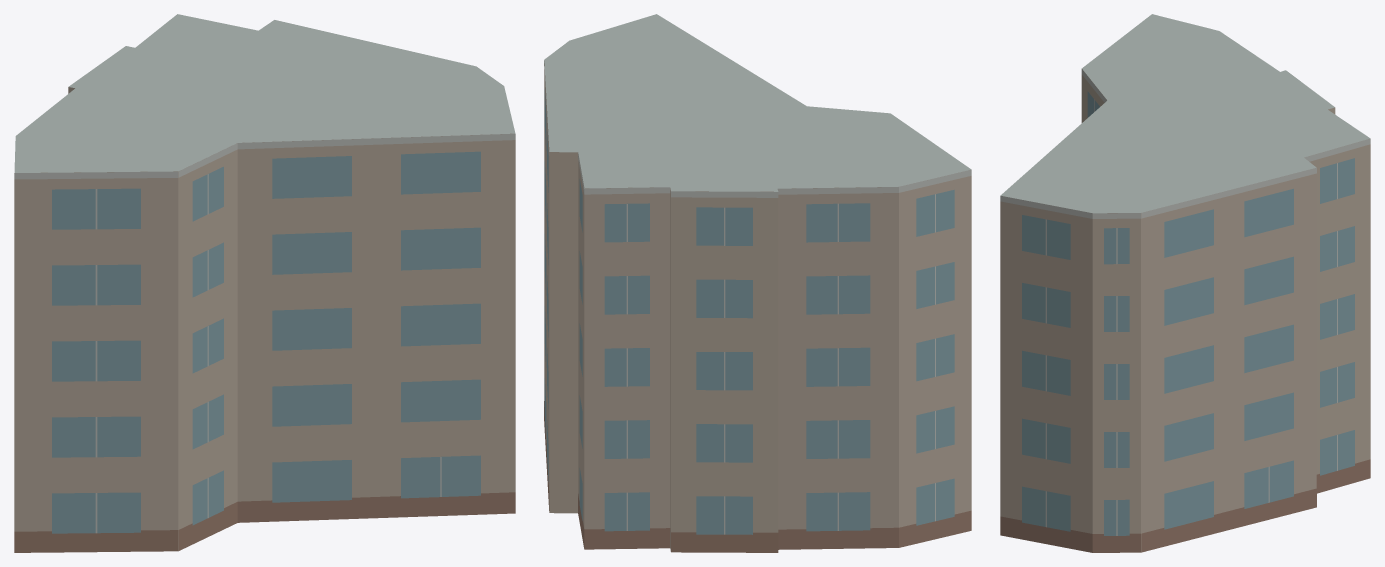
Rendered from survey-upis-32943832.glb.
The picture shows the model from 3 angles, left to right: view 1: azimuth 30°, elevation 25°; view 2: azimuth 150°, elevation 25°; view 3: azimuth 270°, elevation 25°; orthographic projection. The views are drawn at different scales.
Parts seen in each view (by area): view 1: survey-upis-32943832.tmp; view 2: survey-upis-32943832.tmp; view 3: survey-upis-32943832.tmp.
Boxes of the visible parts, box(x1,y1,x2,y2) form: survey-upis-32943832.tmp: box(14, 14, 515, 552); survey-upis-32943832.tmp: box(544, 14, 971, 552); survey-upis-32943832.tmp: box(1000, 14, 1370, 552).
Size of the model in its own units: 18.12 by 14.4 by 14.24.
